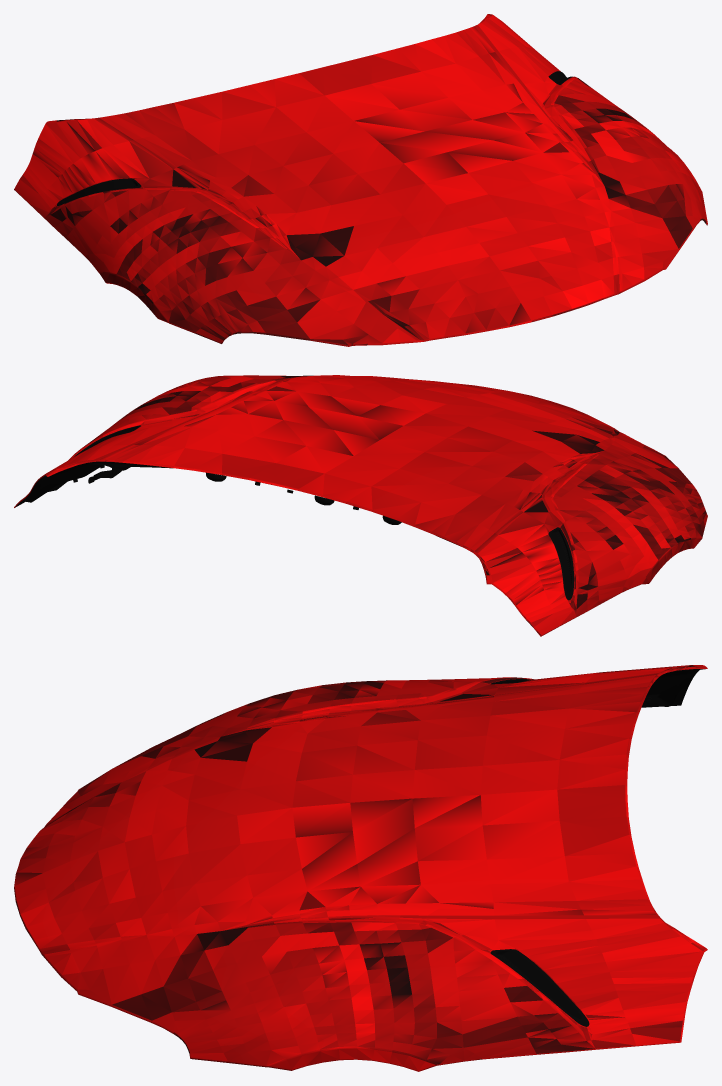
File: Toyota_GRSupra_Hood.FBX
3 renders of one model, top to bottom at view 1: azimuth 30°, elevation 25°; view 2: azimuth 150°, elevation 25°; view 3: azimuth 270°, elevation 25°, orthographic. The views are drawn at different scales.
Visible parts, largest first — view 1: Hood; view 2: Hood; view 3: Hood.
Boxes of the visible parts, <box> form: Hood: <box>14,14,707,346</box>; Hood: <box>14,375,707,636</box>; Hood: <box>14,665,707,1071</box>.
Size of the model in its own units: 1.86 by 0.2957 by 1.57.
